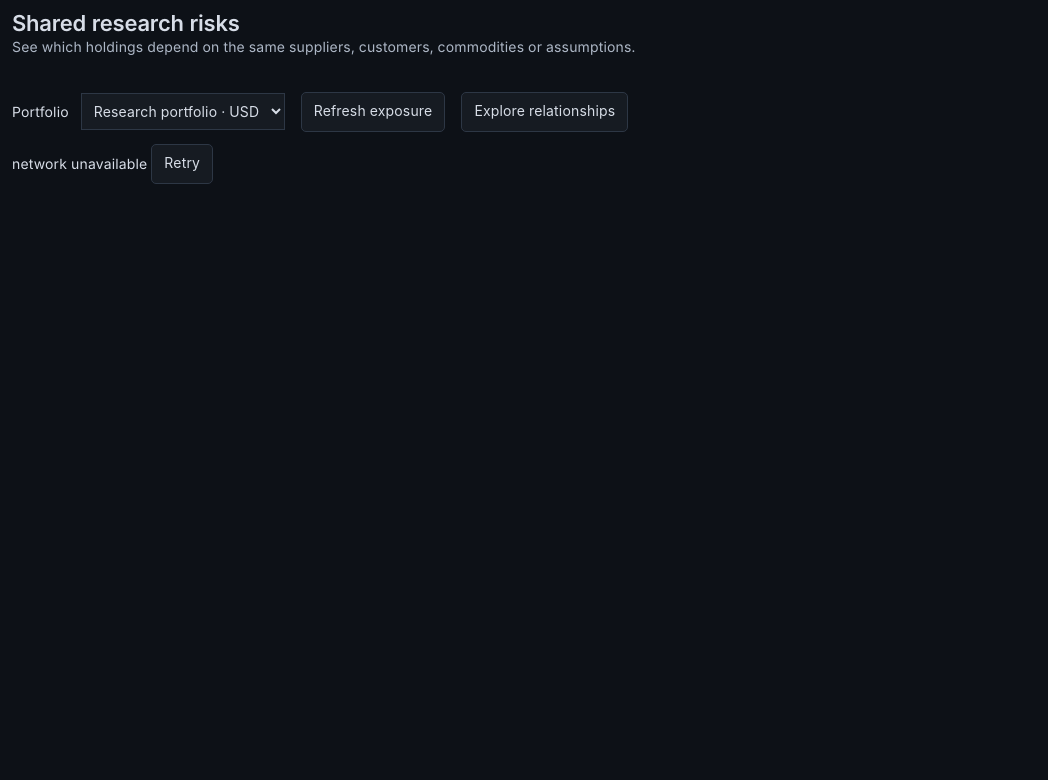
Scenario: offers retry when quotes or research cannot load
The width and height of the screenshot is (1048, 780).
Expected: the message "network unavailable Retry" is shown, [12,144,213,184]
Click the button "Retry": [182, 164] box [151,144,213,184]
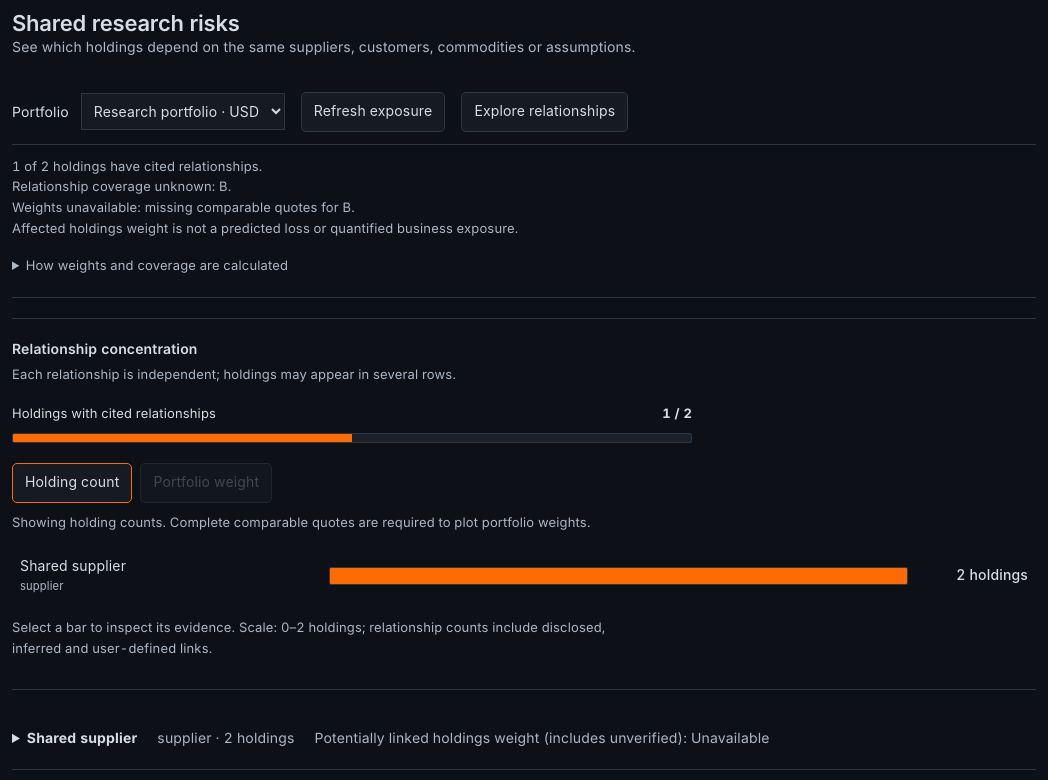
Expected: the text "Shared supplier" is shown, [27,730,137,747]
